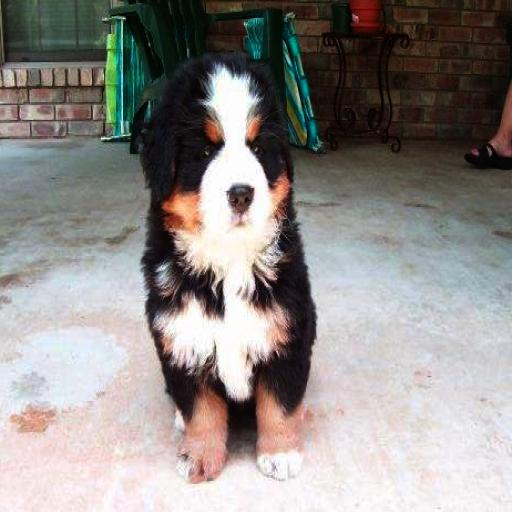dog_face: (128, 53, 294, 240)
